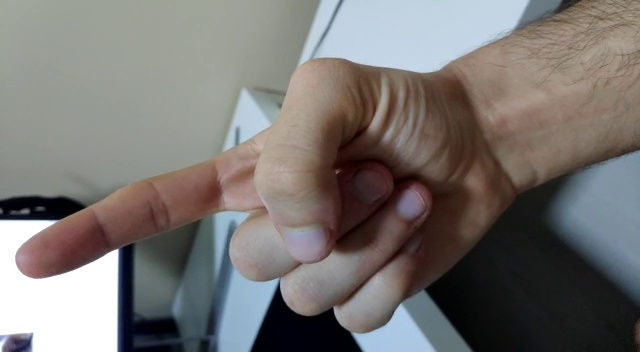One: (5, 11, 540, 342)
